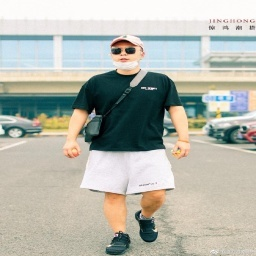noWear: (110, 44, 144, 69)
